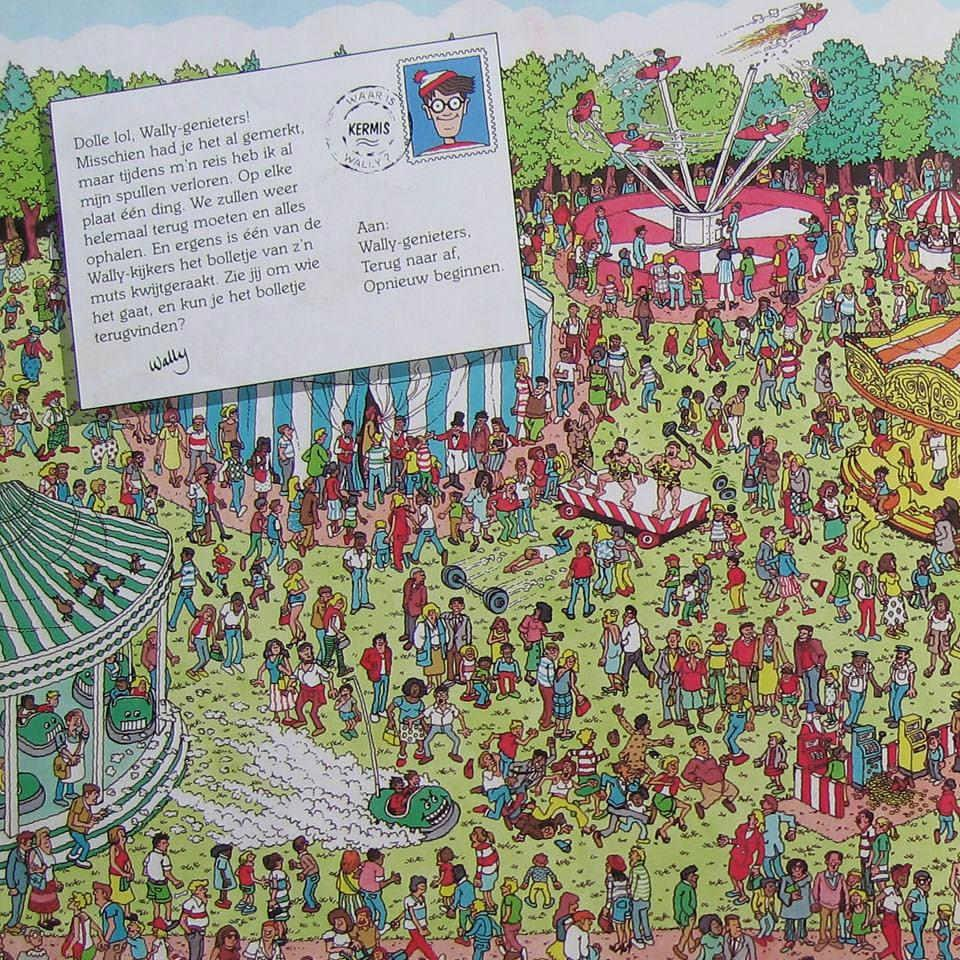waldo: (416, 68, 486, 153)
